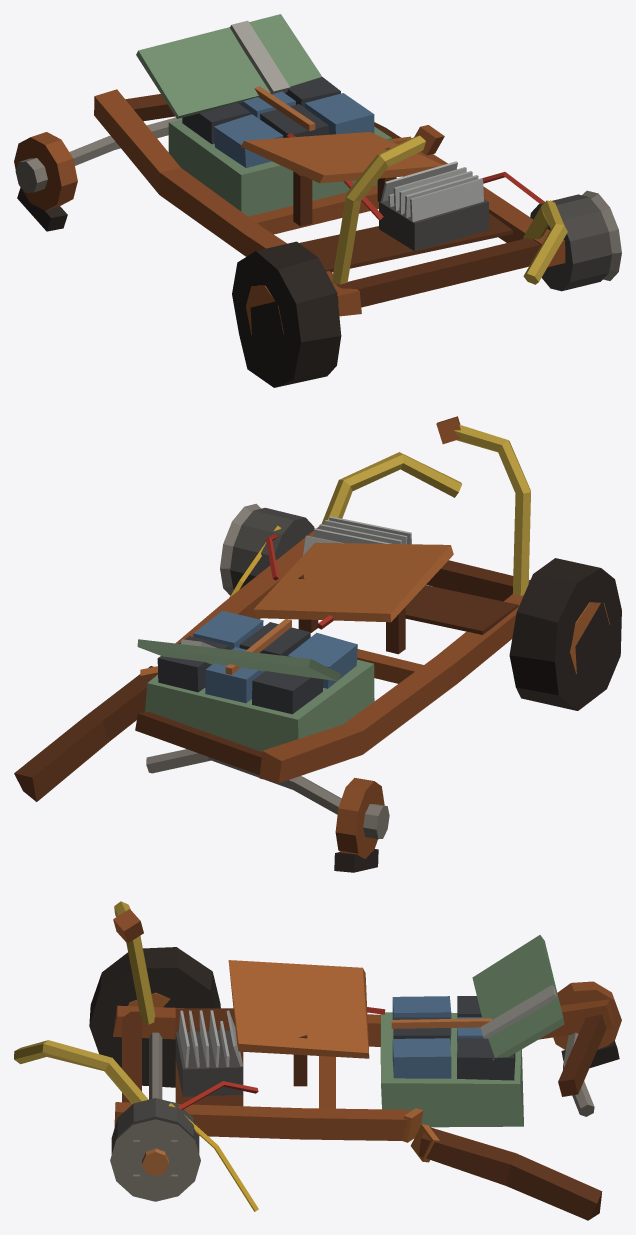
Rendered from vehicle_frame.glb.
3 renders of one model, top to bottom at view 1: azimuth 30°, elevation 25°; view 2: azimuth 150°, elevation 25°; view 3: azimuth 270°, elevation 25°, orthographic. The views are drawn at different scales.
Parts seen in each view (by area): view 1: vehicle_frame; view 2: vehicle_frame; view 3: vehicle_frame.
Part boxes in pixels (box(x1,y1,x2,y2)): vehicle_frame: box(14, 14, 621, 387); vehicle_frame: box(14, 416, 621, 872); vehicle_frame: box(14, 901, 621, 1220).
Size of the model in its own units: 1.21 by 0.7467 by 1.8.
